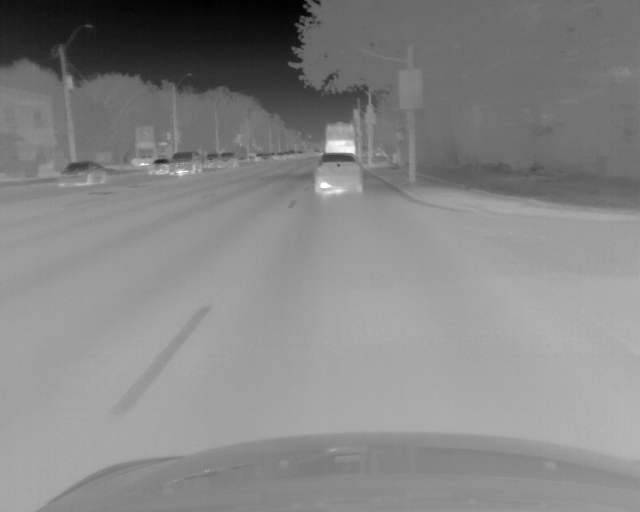car: (315, 153, 363, 195), (59, 162, 108, 187), (325, 122, 356, 155), (169, 151, 201, 177), (217, 152, 238, 170), (148, 158, 168, 176), (202, 153, 217, 169), (261, 152, 269, 164), (281, 153, 290, 162), (253, 152, 261, 162), (270, 152, 280, 160)
